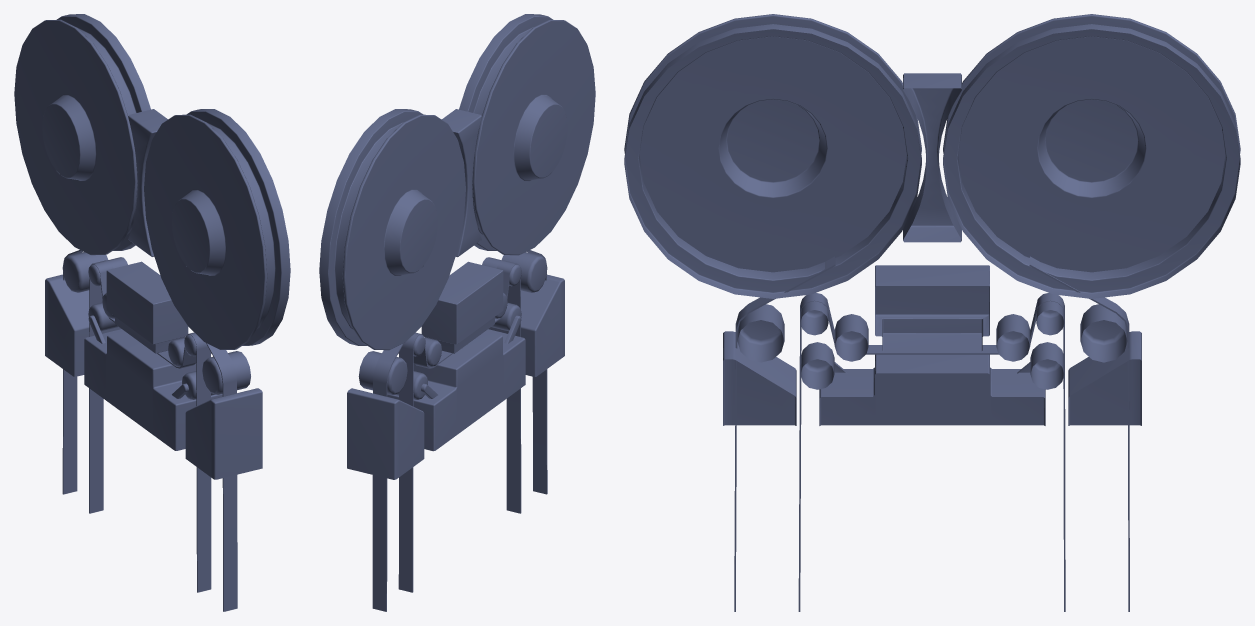
The model's file is SovietCompDisks.fbx.
3 renders of one model, left to right at view 1: azimuth 30°, elevation 25°; view 2: azimuth 150°, elevation 25°; view 3: azimuth 270°, elevation 25°, orthographic. The views are drawn at different scales.
Visible parts, largest first — view 1: SovietCompDisks; view 2: SovietCompDisks; view 3: SovietCompDisks.
Boxes of the visible parts, x1,y1,x2,y2 form: SovietCompDisks: (14, 14, 290, 611); SovietCompDisks: (319, 14, 595, 611); SovietCompDisks: (624, 14, 1240, 611).
Size of the model in its own units: 9.16 by 80.9 by 76.89.
